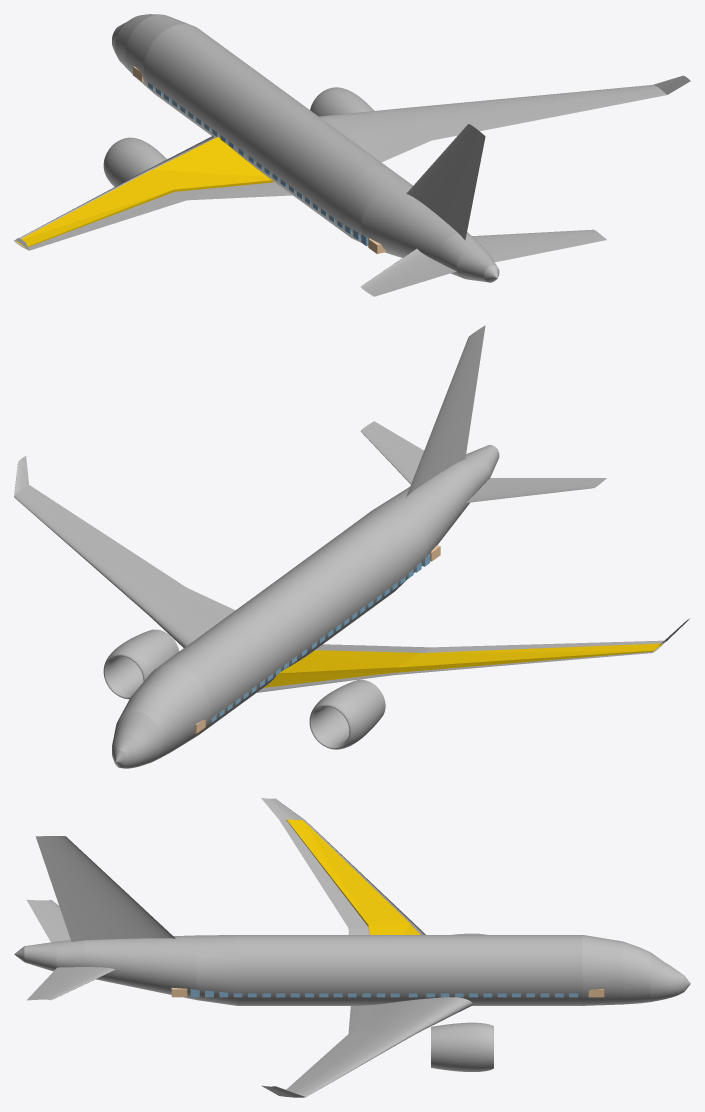
The picture shows the model from 3 angles, top to bottom: view 1: azimuth 30°, elevation 25°; view 2: azimuth 150°, elevation 25°; view 3: azimuth 270°, elevation 25°; orthographic projection. The views are drawn at different scales.
Visible parts, largest first — view 1: Renderer Node; view 2: Renderer Node; view 3: Renderer Node.
Part boxes in pixels (bbox=[...]): Renderer Node: bbox=[14, 14, 690, 296]; Renderer Node: bbox=[14, 325, 690, 768]; Renderer Node: bbox=[14, 798, 690, 1097].
Size of the model in its own units: 35.1 by 10.74 by 34.9.
